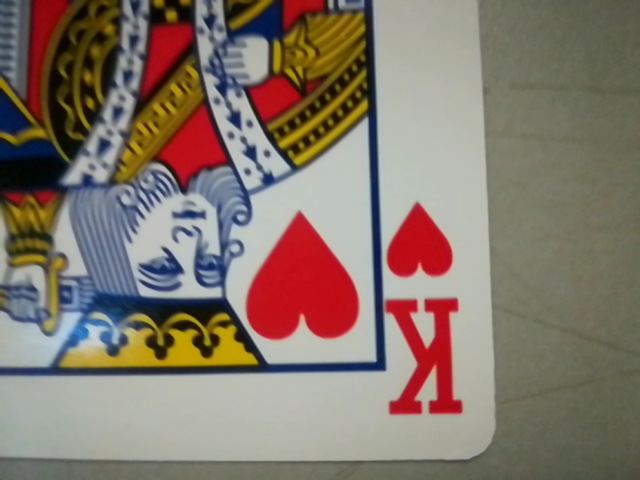hx k: (368, 200, 486, 426)
